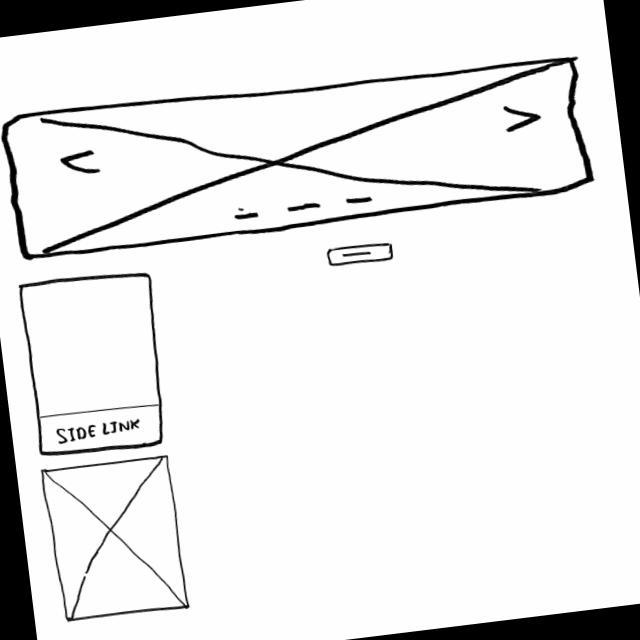container: (18, 266, 170, 460)
icon-button: (321, 238, 398, 270)
image: (0, 44, 595, 263), (38, 451, 190, 624)
label: (52, 415, 146, 446)
